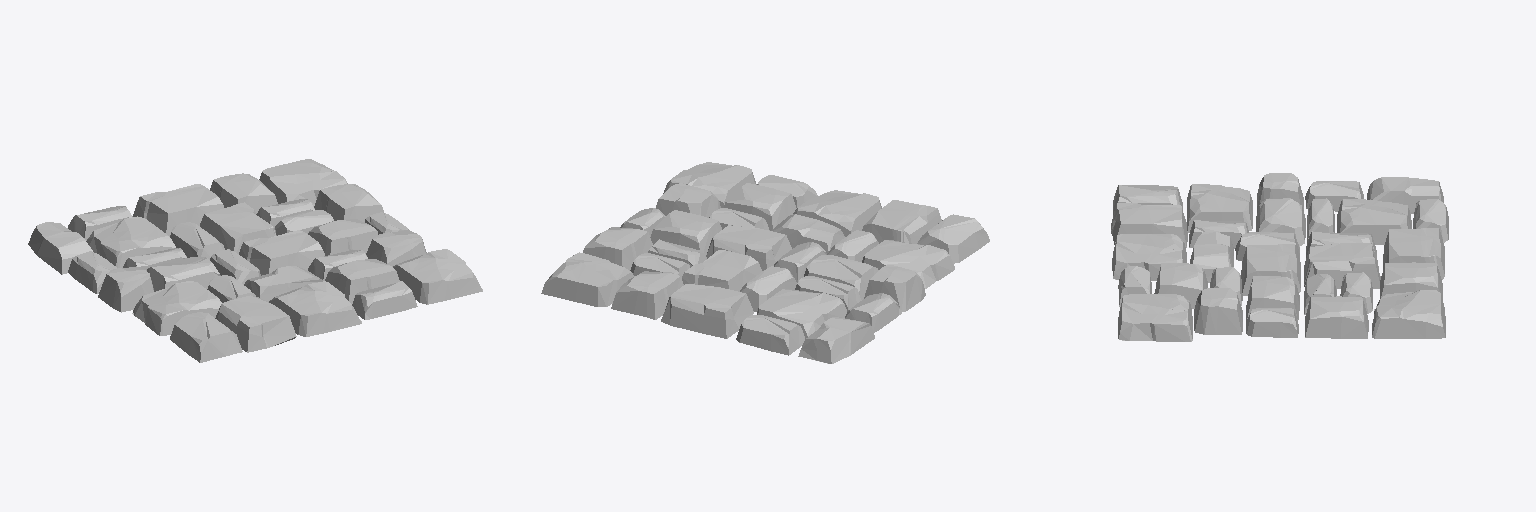
The model's file is RockPath_Square_Wide.obj.
3 renders of one model, left to right at view 1: azimuth 30°, elevation 25°; view 2: azimuth 150°, elevation 25°; view 3: azimuth 270°, elevation 25°, orthographic.
Parts seen in each view (by area): view 1: RockPath_Square_Wide; view 2: RockPath_Square_Wide; view 3: RockPath_Square_Wide.
Boxes of the visible parts, <box> form: RockPath_Square_Wide: <box>28,159,482,362</box>; RockPath_Square_Wide: <box>541,162,989,363</box>; RockPath_Square_Wide: <box>1111,173,1448,341</box>.
Size of the model in its own units: 2.05 by 0.1763 by 1.99.